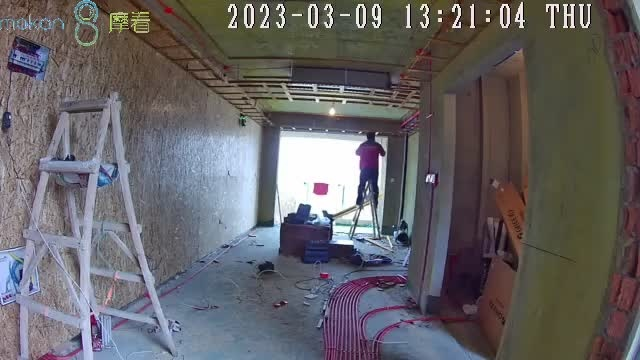people: (356, 133, 385, 210)
window: (277, 132, 383, 220)
